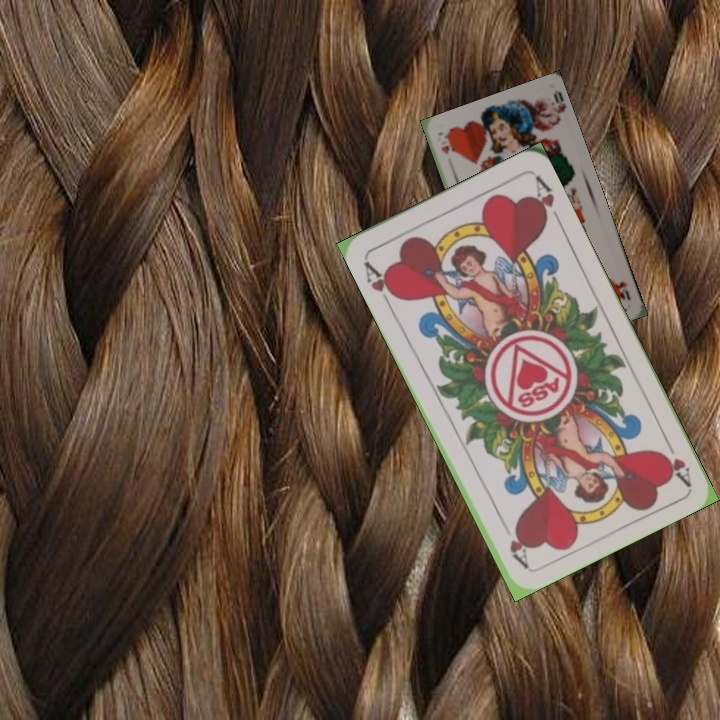HA: (359, 257, 402, 311), (656, 431, 694, 487)
HO: (610, 276, 633, 304), (437, 130, 455, 156)
